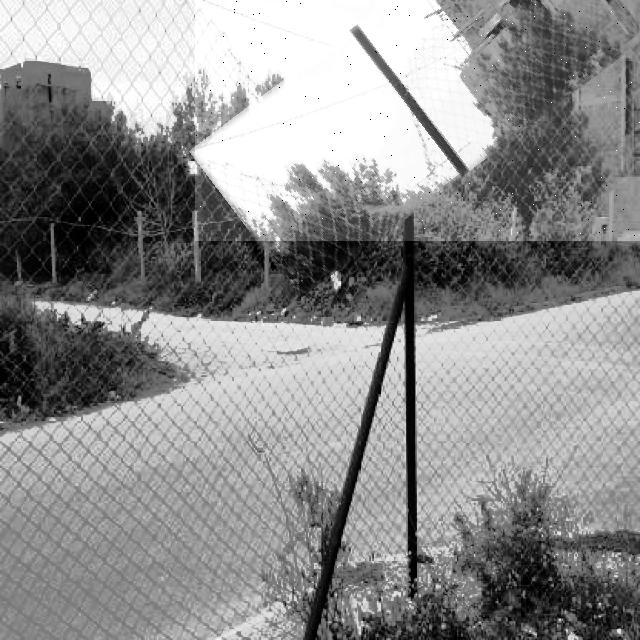anomaly-fence: (195, 0, 640, 241)
